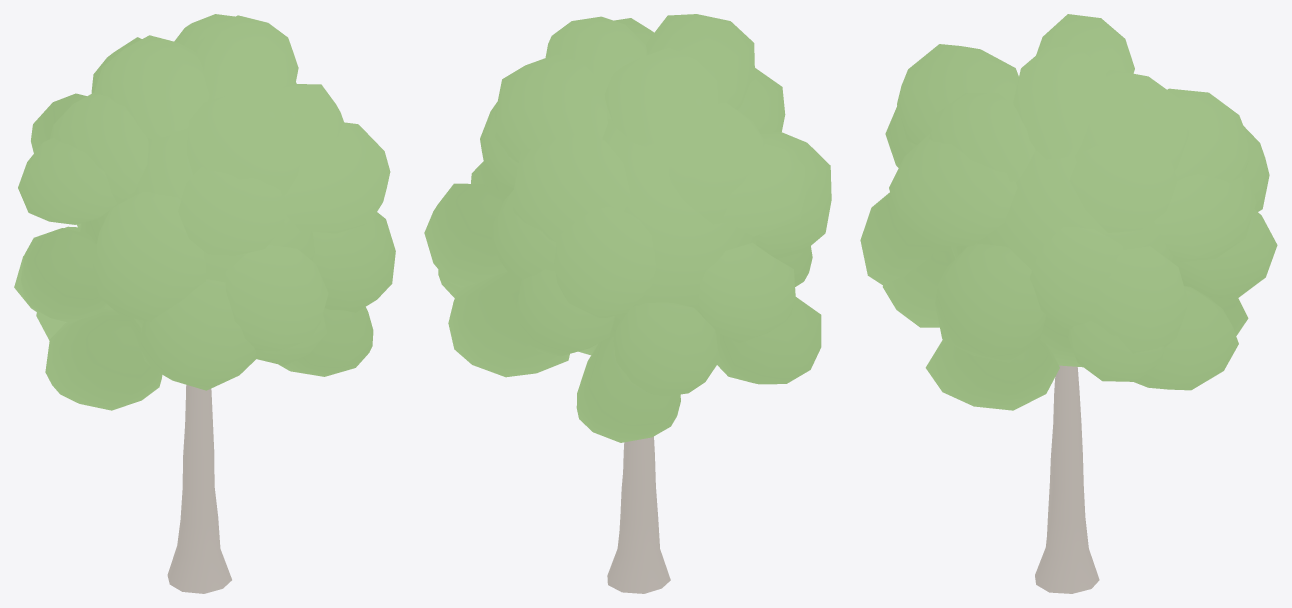
File: Blender_LakeSugarMaple_1.glb
3 views of the same model, side by side, from view 1: azimuth 30°, elevation 25°; view 2: azimuth 150°, elevation 25°; view 3: azimuth 270°, elevation 25° (orthographic).
Parts seen in each view (by area): view 1: Blender_LakeSugarMaple_1; view 2: Blender_LakeSugarMaple_1; view 3: Blender_LakeSugarMaple_1.
Boxes of the visible parts, x1=… form: Blender_LakeSugarMaple_1: x1=14, y1=14, x2=395, y2=593; Blender_LakeSugarMaple_1: x1=424, y1=14, x2=831, y2=593; Blender_LakeSugarMaple_1: x1=860, y1=14, x2=1277, y2=593.
Size of the model in its own units: 14.08 by 21.51 by 14.83.
